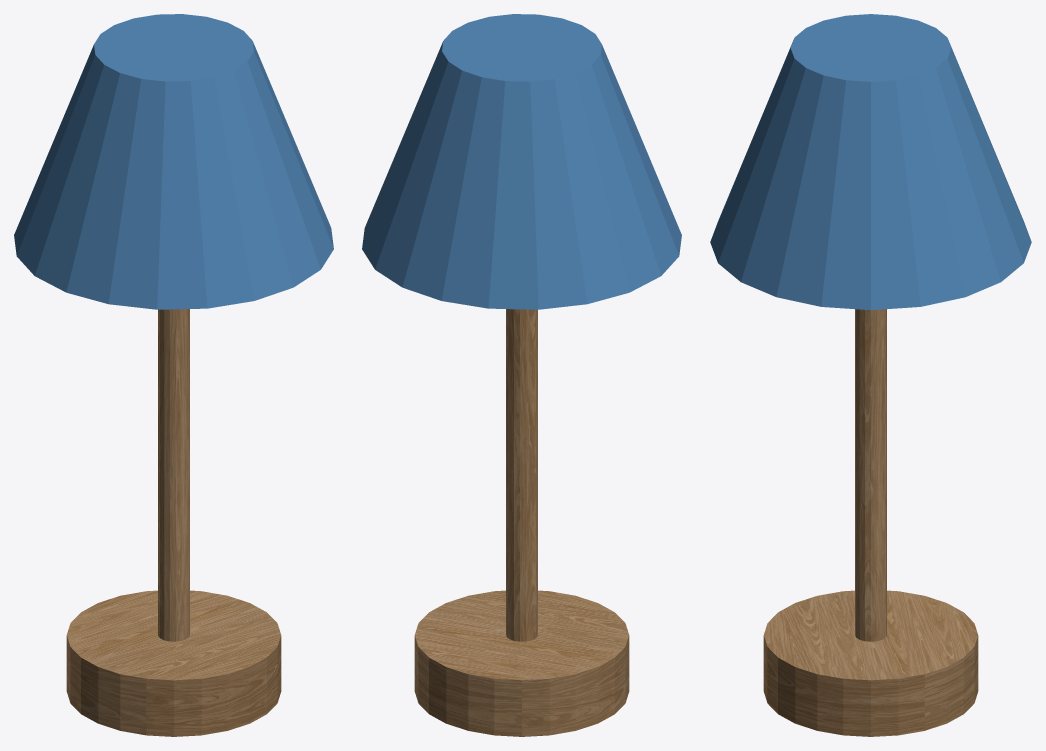
File: bedside_lamp_blue.glb
The picture shows the model from 3 angles, left to right: view 1: azimuth 30°, elevation 25°; view 2: azimuth 150°, elevation 25°; view 3: azimuth 270°, elevation 25°; orthographic projection.
Visible parts, largest first — view 1: fabric shade, table base, lamp stem; view 2: fabric shade, table base, lamp stem; view 3: fabric shade, table base, lamp stem.
Part boxes in pixels (box(x1,y1,x2,y2)): fabric shade: box(14, 14, 333, 309); table base: box(66, 590, 281, 736); lamp stem: box(158, 309, 189, 641); fabric shade: box(362, 14, 681, 309); table base: box(414, 590, 629, 736); lamp stem: box(506, 309, 537, 641); fabric shade: box(710, 14, 1031, 310); table base: box(763, 590, 978, 736); lamp stem: box(855, 309, 886, 641).
Bounding box in the file's own units: 0.36 × 0.795 × 0.36.
2 materials, 1 textured.
